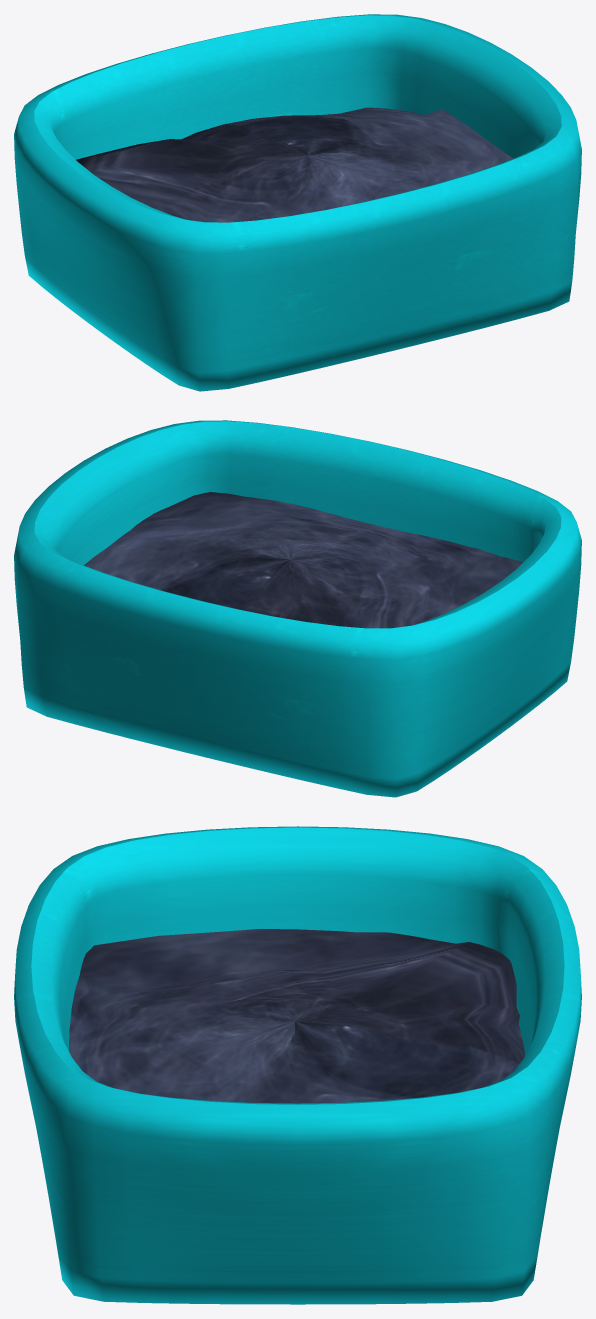
Rendered from NitrogenBeholder2.FBX.
The picture shows the model from 3 angles, top to bottom: view 1: azimuth 30°, elevation 25°; view 2: azimuth 150°, elevation 25°; view 3: azimuth 270°, elevation 25°; orthographic projection. The views are drawn at different scales.
Parts seen in each view (by area): view 1: Loft001, Sphere001; view 2: Loft001, Sphere001; view 3: Loft001, Sphere001.
Boxes of the visible parts, x1,y1,x2,y2 form: Loft001: [14, 14, 581, 391]; Sphere001: [76, 107, 512, 222]; Loft001: [14, 420, 581, 797]; Sphere001: [83, 492, 522, 628]; Loft001: [14, 826, 581, 1304]; Sphere001: [69, 929, 524, 1103].
Bounding box in the file's own units: 674 × 252 × 548.
Materials: 2 (2 with a texture image).
